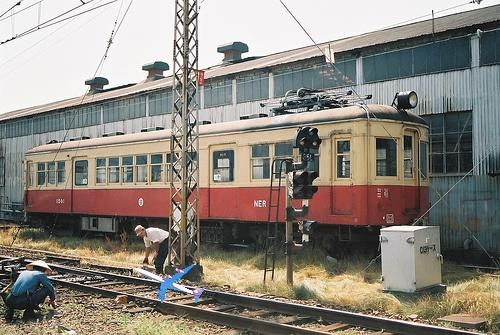tampered: (135, 265, 204, 303)
